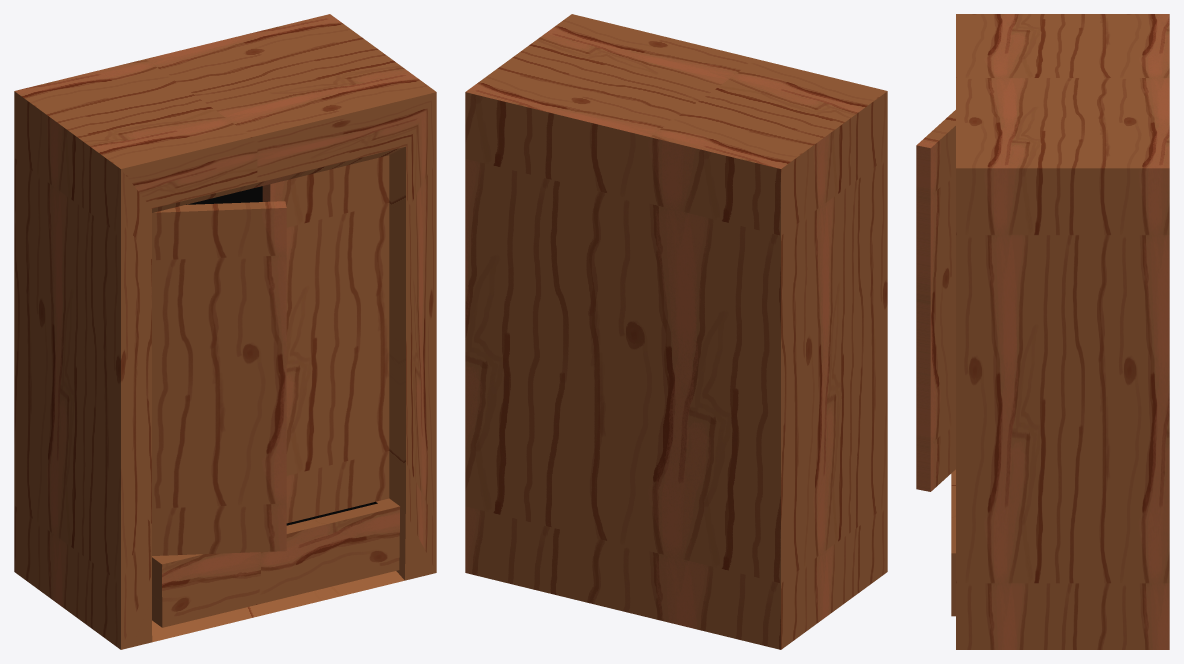
The model's file is Szafa.fbx.
The picture shows the model from 3 angles, left to right: view 1: azimuth 30°, elevation 25°; view 2: azimuth 150°, elevation 25°; view 3: azimuth 270°, elevation 25°; orthographic projection.
Parts seen in each view (by area): view 1: Szafa; view 2: Szafa; view 3: Szafa.
Part boxes in pixels (left/top/right/bottom): Szafa: left=14, top=14, right=436, bottom=649; Szafa: left=465, top=14, right=887, bottom=649; Szafa: left=916, top=14, right=1169, bottom=649.
Bounding box in the file's own units: 394 × 574 × 273.
